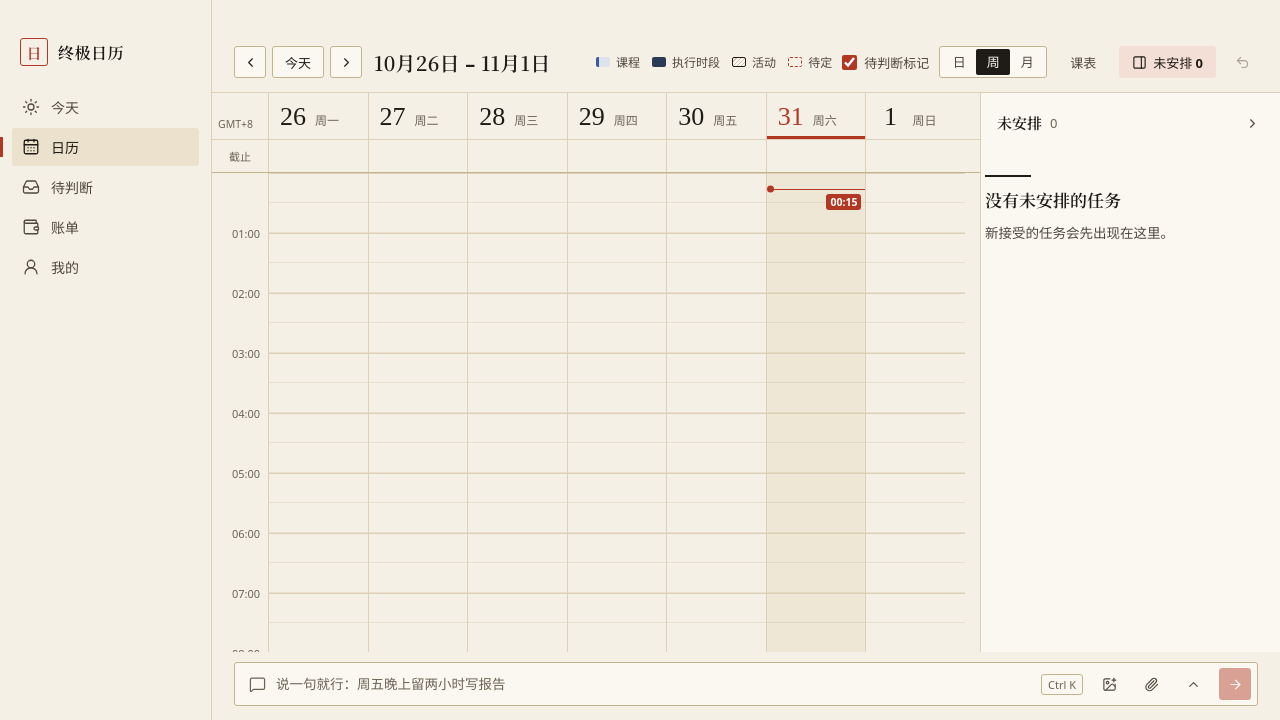
Test: desktop workspace interaction › stacks new and existing course editors above their manager and restores focus on Escape
Click the button "课表": x=1083, y=62 x1=1057 y1=46 x2=1109 y2=78
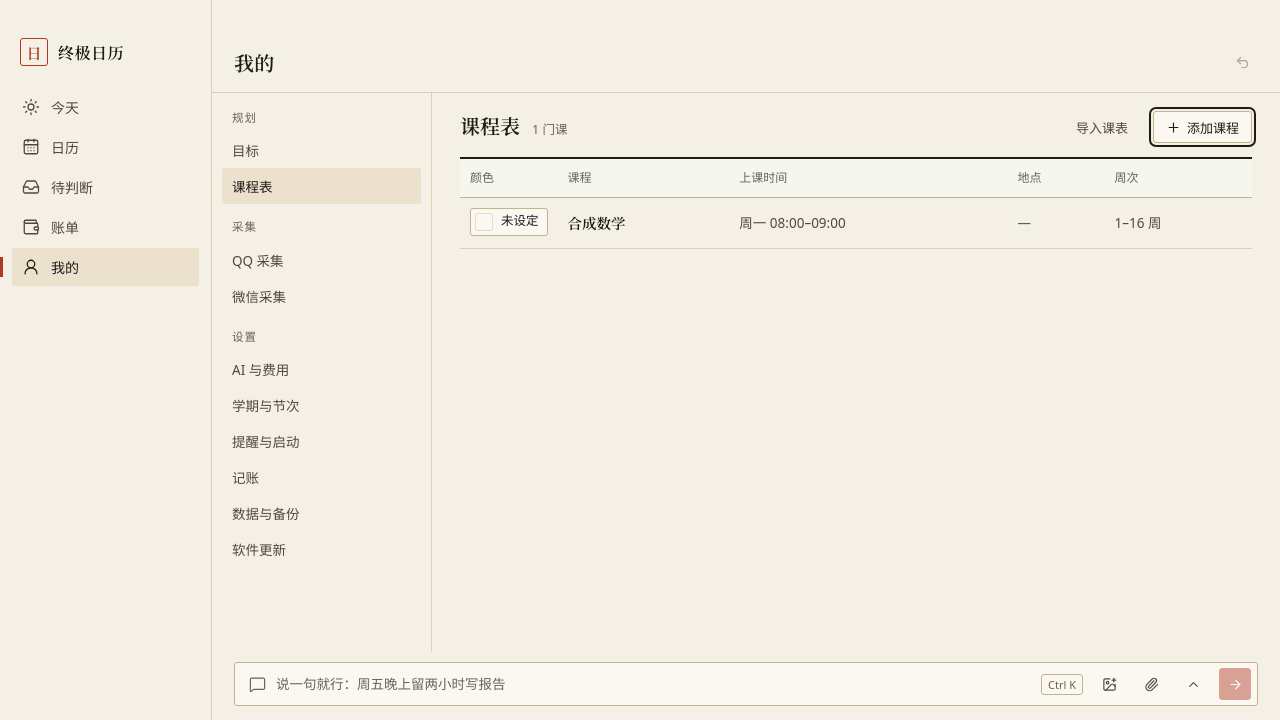
Click the button "添加课程": x=1202, y=127 x1=1153 y1=111 x2=1252 y2=143
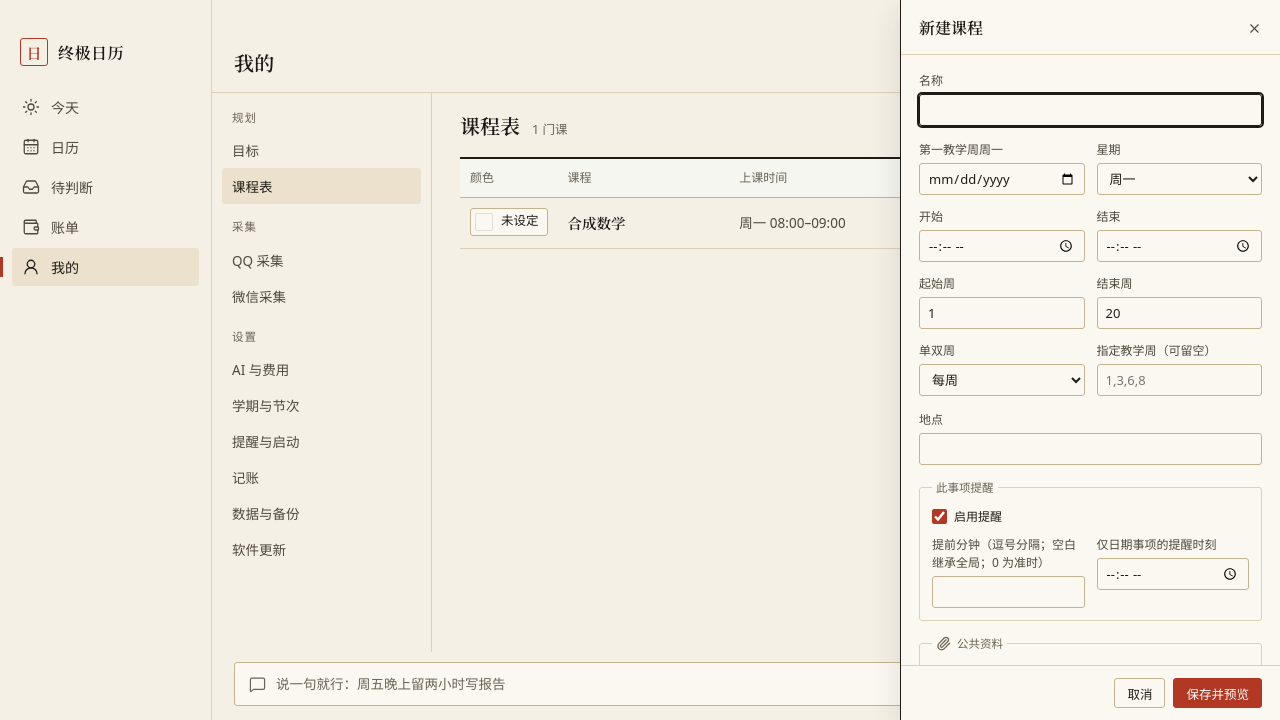
Press Escape
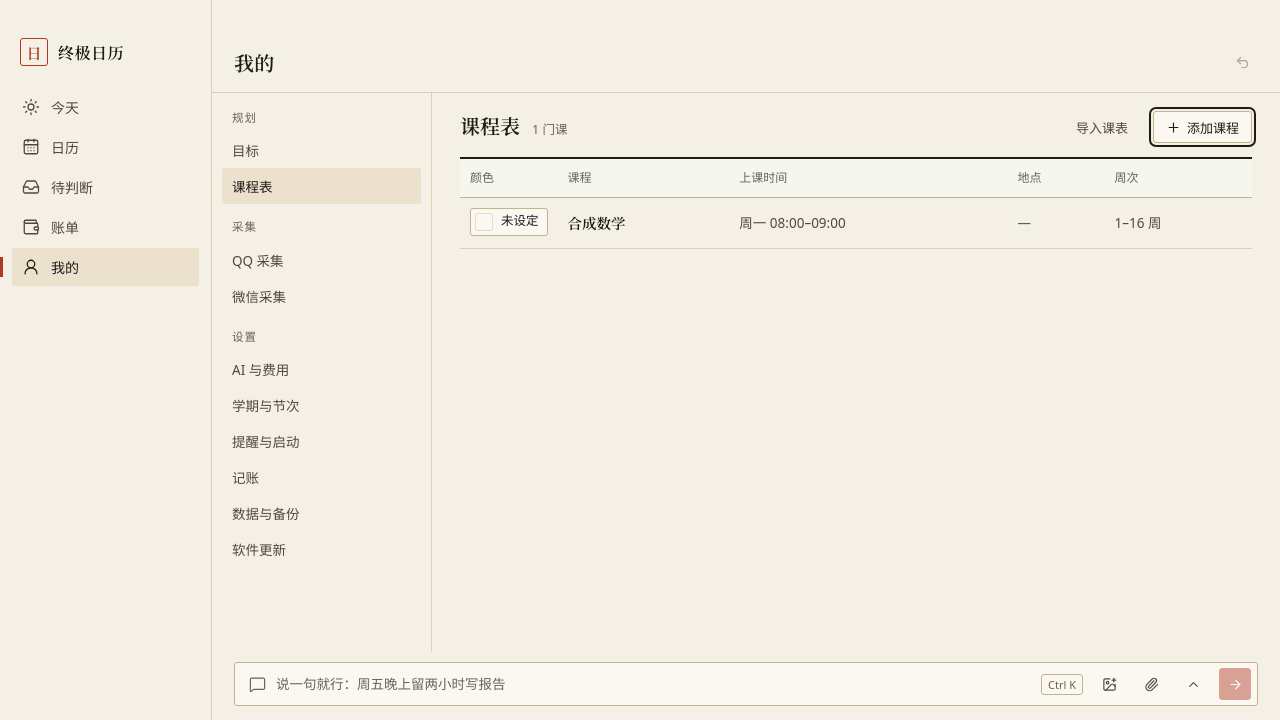
Result: the heading "新建课程" is gone
Click the button "合成数学": x=596, y=223 x1=568 y1=210 x2=626 y2=236
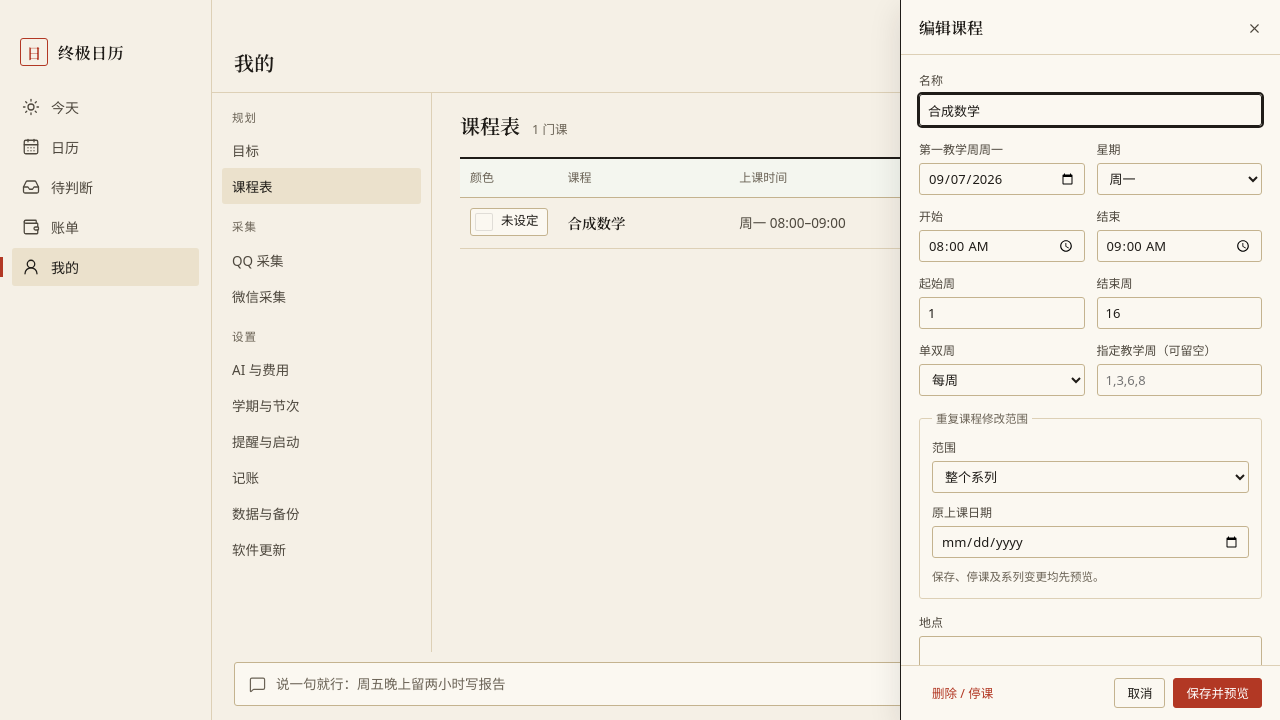
Press Escape
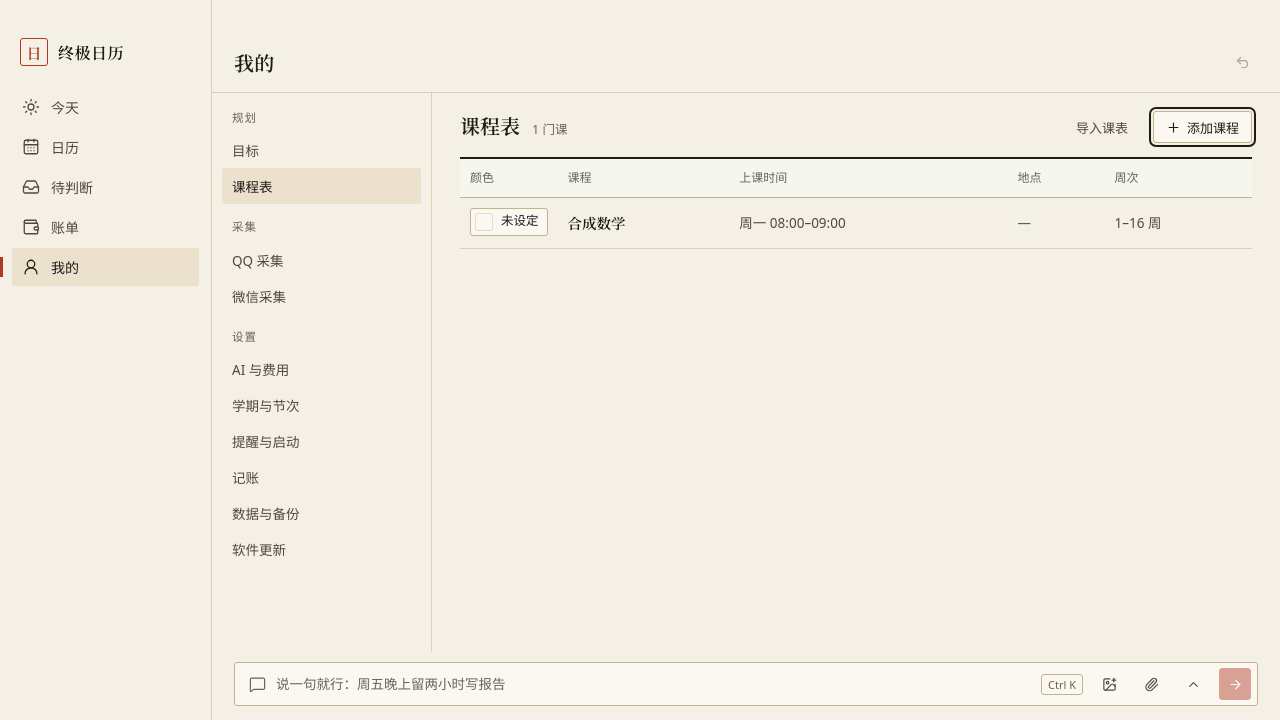
Result: the heading "编辑课程" is gone
